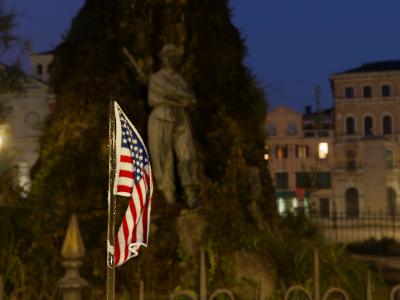America flag: (110, 101, 153, 268)
